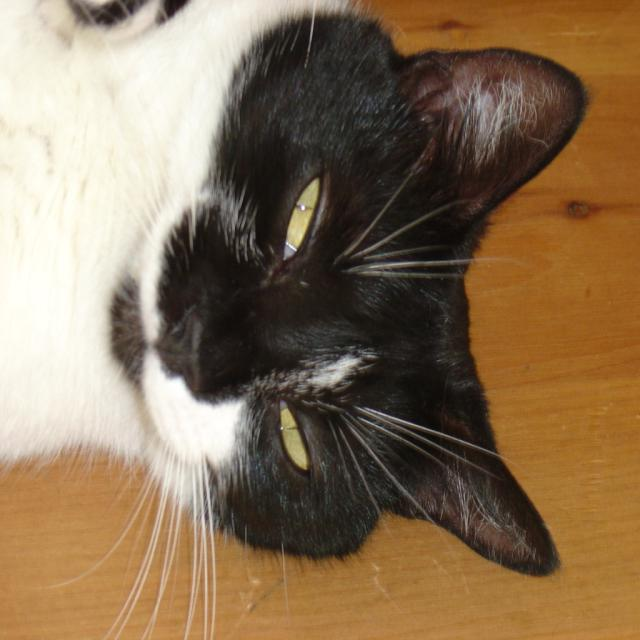Cat: (0, 0, 599, 638)
